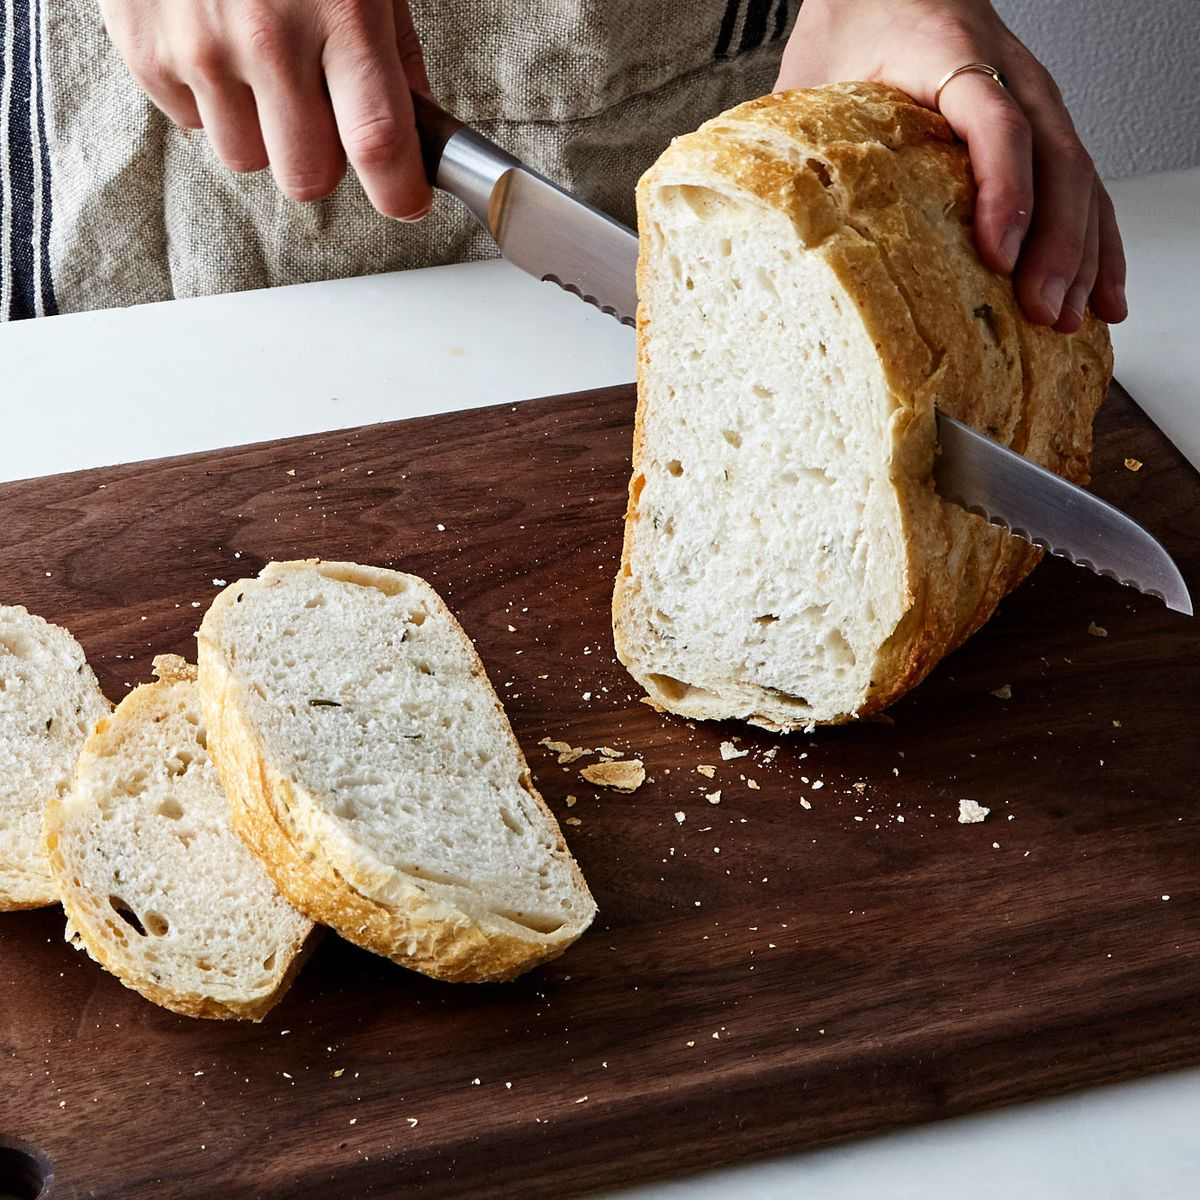slice of bread: (629, 151, 899, 745), (187, 566, 542, 948)
